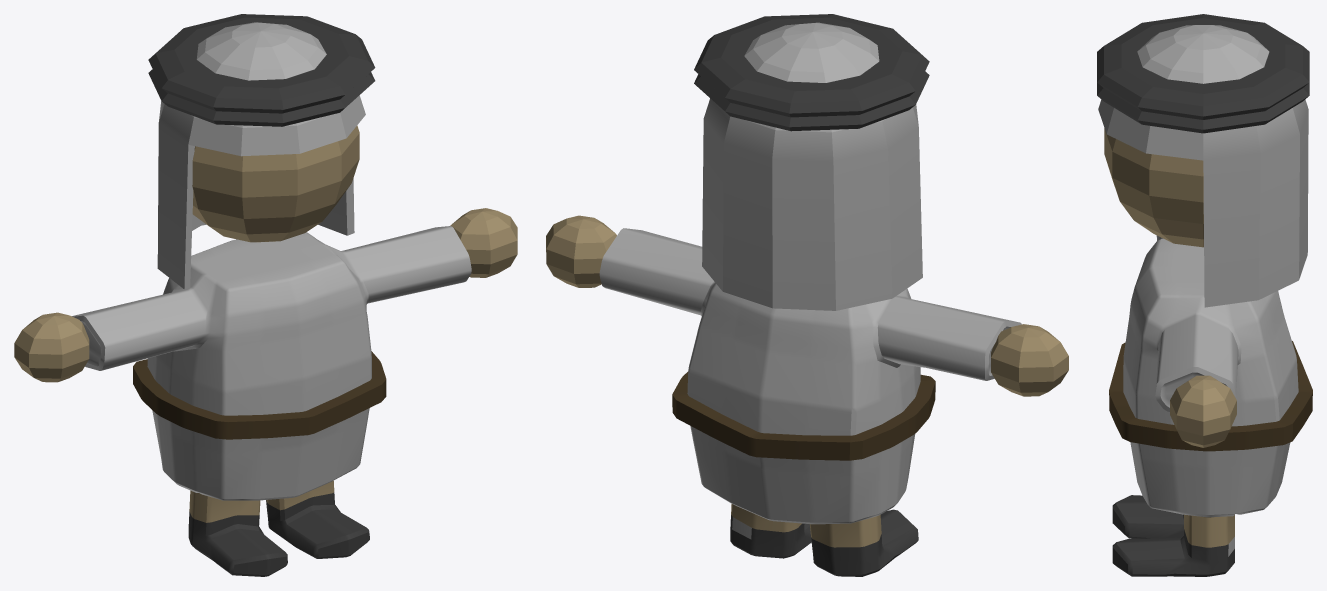
Rendered from Enemy.fbx.
3 views of the same model, side by side, from view 1: azimuth 30°, elevation 25°; view 2: azimuth 150°, elevation 25°; view 3: azimuth 270°, elevation 25° (orthographic). The views are drawn at different scales.
Parts seen in each view (by area): view 1: polySurface5; view 2: polySurface5; view 3: polySurface5.
Part boxes in pixels (x1,y1,x2,y2): polySurface5: (14,14,517,576); polySurface5: (546,14,1068,576); polySurface5: (1097,14,1312,576).
Size of the model in its own units: 8.09 by 7.89 by 3.02.
